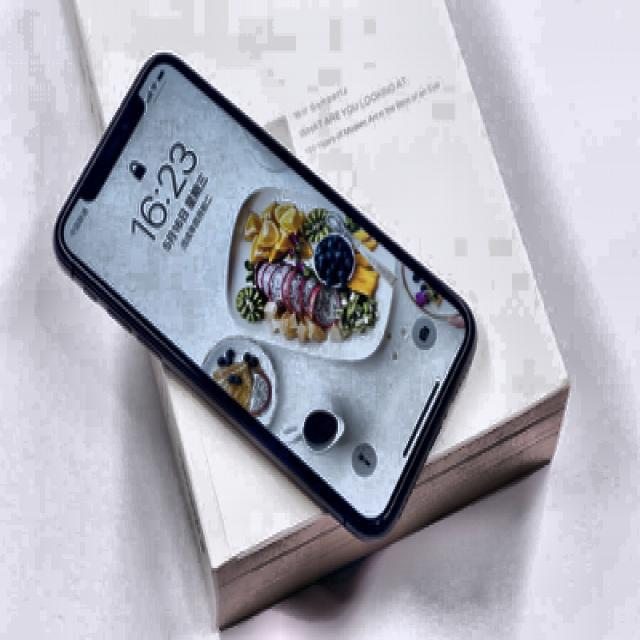Phone: (51, 46, 482, 552)
